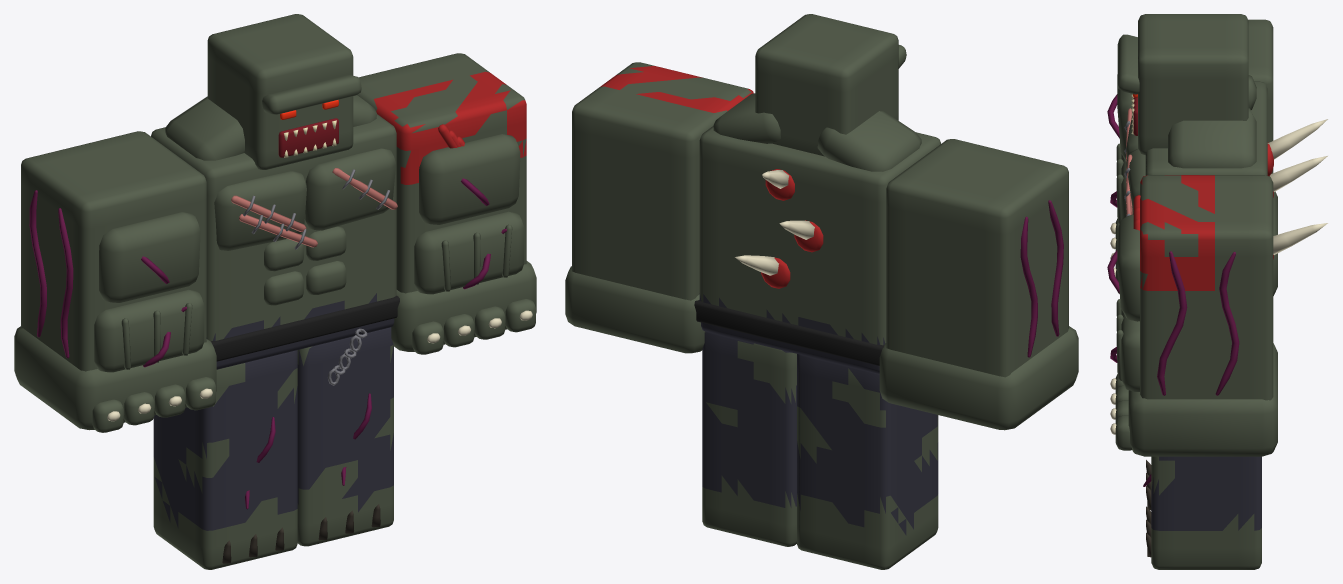
File: zombi_berserk_hd.fbx
3 renders of one model, left to right at view 1: azimuth 30°, elevation 25°; view 2: azimuth 150°, elevation 25°; view 3: azimuth 270°, elevation 25°, orthographic.
Visible parts, largest first — view 1: Right Arm, Torso, Left Arm, Right Leg, Left Leg, Head; view 2: Right Arm, Torso, Left Arm, Right Leg, Left Leg, Head; view 3: Left Arm, Head, Left Leg, Torso, Right Arm.
Part boxes in pixels (x1,y1,x2,y2): Right Arm: (14,131,216,432); Torso: (151,95,399,385); Left Arm: (357,53,536,354); Right Leg: (153,350,297,569); Left Leg: (297,327,393,546); Head: (207,14,361,169); Right Arm: (879,139,1078,430); Torso: (694,93,940,373); Left Arm: (565,62,753,353); Right Leg: (797,354,938,569); Left Leg: (702,331,796,546); Head: (755,14,906,156); Left Arm: (1107,175,1277,456); Head: (1117,14,1248,154); Left Leg: (1143,456,1261,569); Torso: (1124,75,1327,259); Right Arm: (1107,19,1277,295).
Bounding box in the file's own units: 572 × 588 × 239.
Materials: 1 (1 with a texture image).
